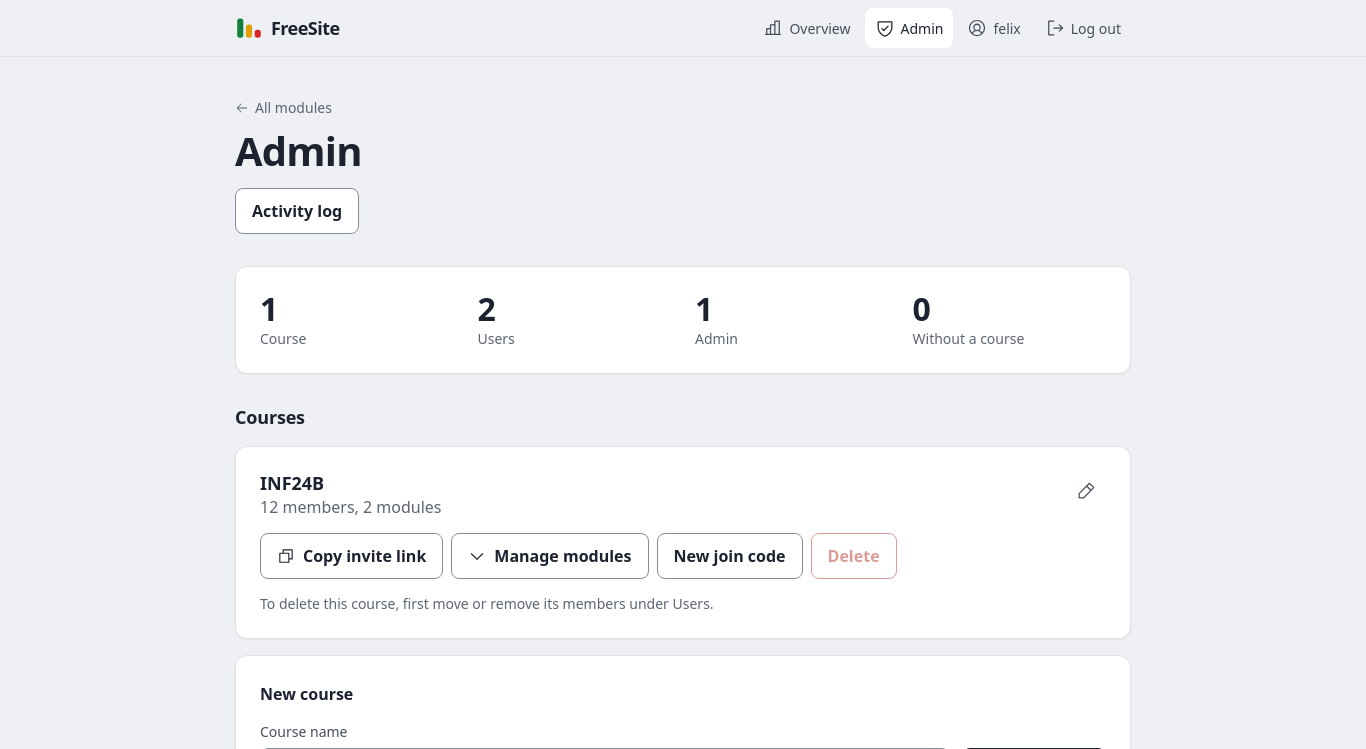
it: AdminPage › copies the invite link of a course
This screenshot has width=1366, height=749.
Click the button "Copy invite link": (352, 556) [260, 533, 443, 579]
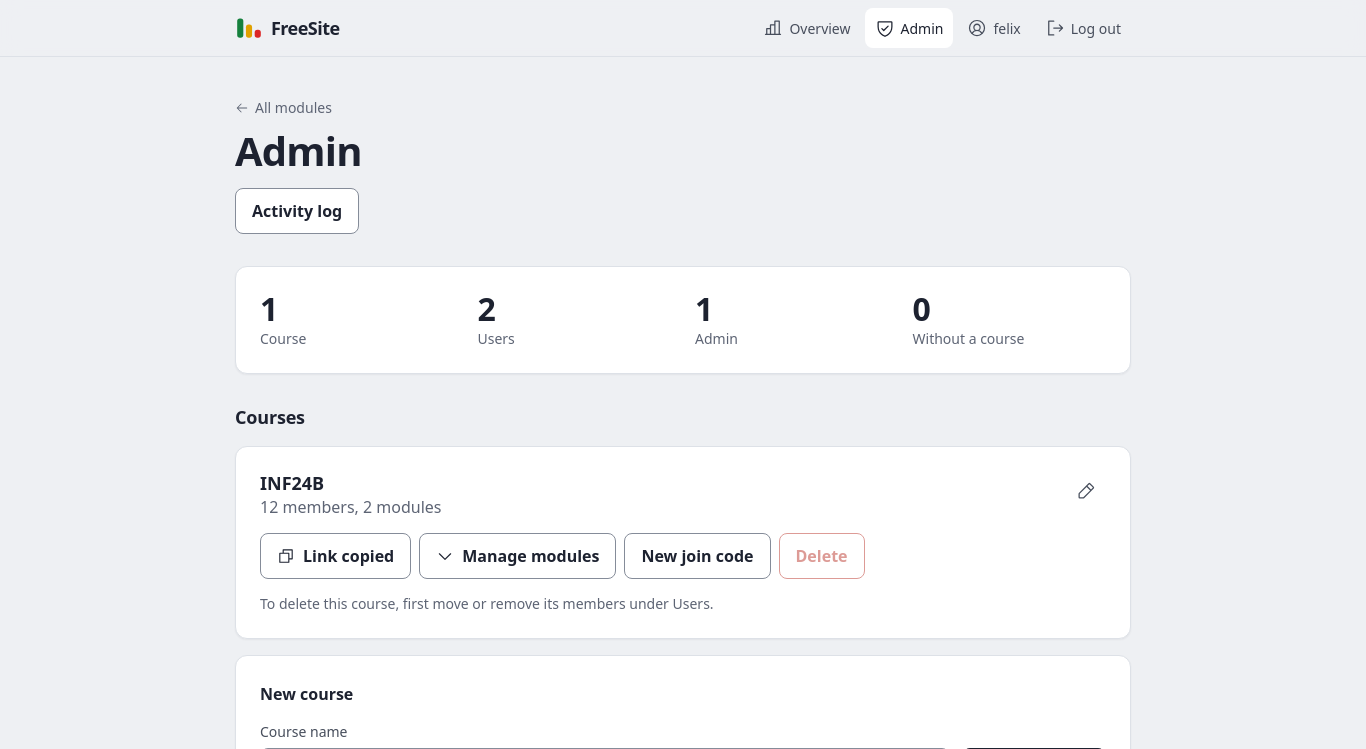
Now the button "Link copied" is shown, box [260, 533, 411, 579]
